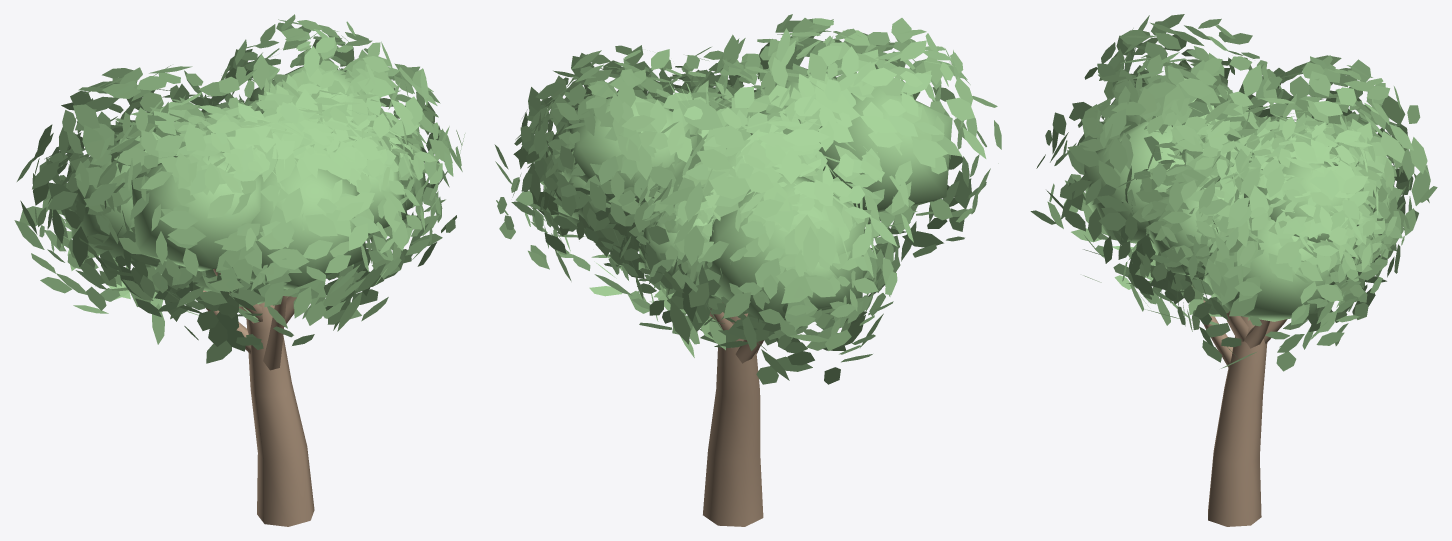
The model's file is tree_round_A.glb.
The picture shows the model from 3 angles, left to right: view 1: azimuth 30°, elevation 25°; view 2: azimuth 150°, elevation 25°; view 3: azimuth 270°, elevation 25°; orthographic projection. The views are drawn at different scales.
Visible parts, largest first — view 1: tree_round_A; view 2: tree_round_A; view 3: tree_round_A.
Part boxes in pixels (box(x1,y1,x2,y2)): tree_round_A: box(14, 14, 465, 526); tree_round_A: box(494, 14, 1001, 526); tree_round_A: box(1030, 14, 1437, 526).
Bounding box in the file's own units: 1.6 × 1.71 × 1.45.
